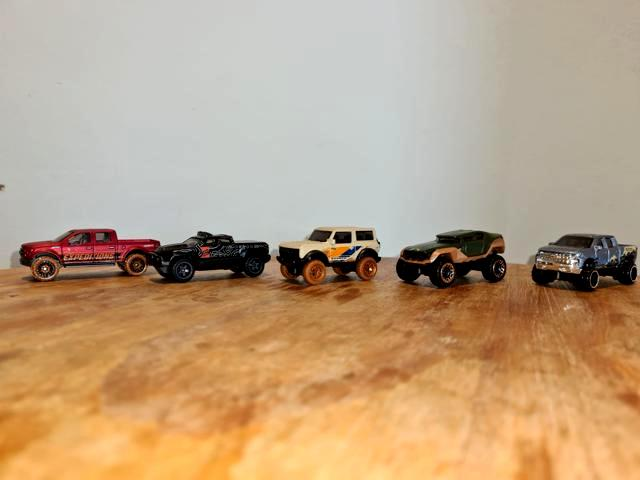toy-car: (19, 229, 161, 282), (146, 230, 271, 284), (395, 230, 507, 288), (530, 233, 638, 290), (276, 226, 381, 284)
